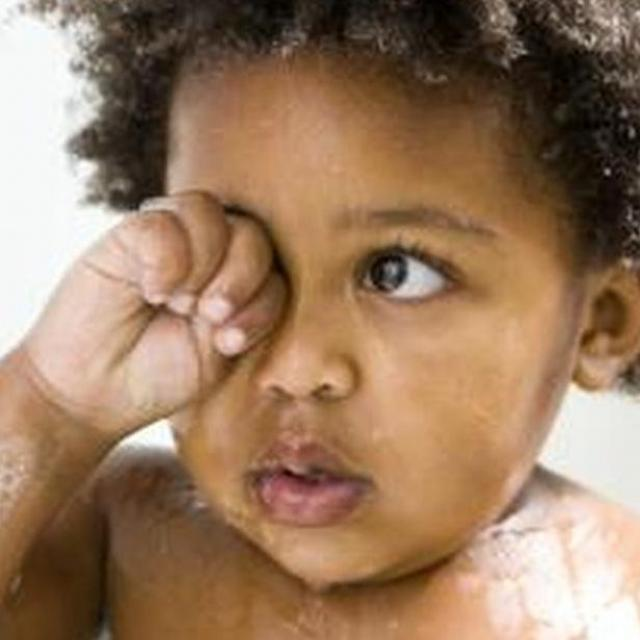surprised: (124, 104, 550, 580)
